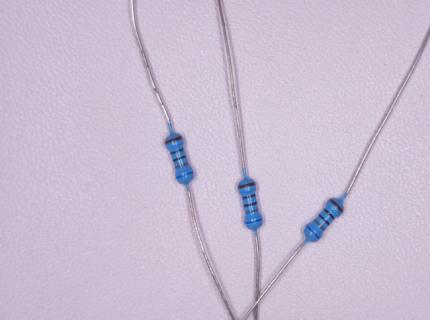Black band: (317, 213, 331, 226), (323, 208, 335, 220), (172, 155, 186, 162), (170, 148, 184, 155), (243, 202, 258, 208), (242, 194, 256, 200)
Blue band: (306, 224, 321, 240), (176, 171, 194, 179), (244, 217, 263, 224)
Brown band: (329, 198, 344, 214), (165, 135, 184, 145), (238, 181, 257, 190)
Grey band: (314, 218, 326, 231), (176, 161, 190, 169), (245, 208, 259, 214)
